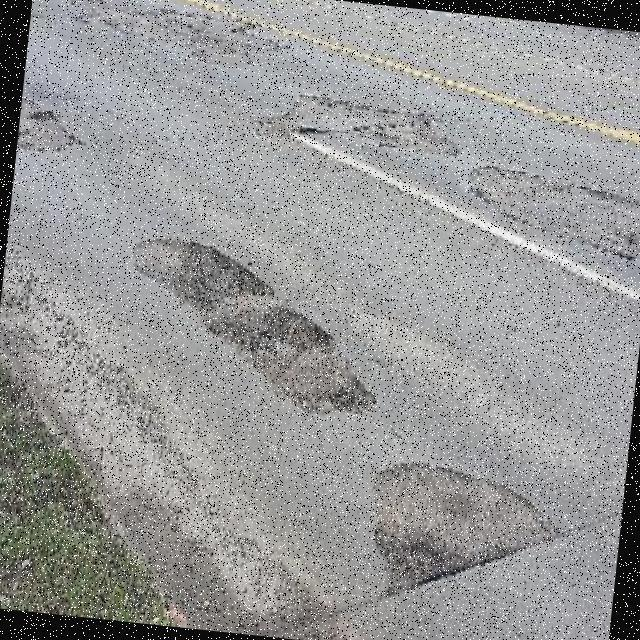Pothole: (135, 236, 376, 419), (371, 467, 564, 595), (464, 162, 640, 265), (75, 7, 284, 71), (261, 92, 458, 157), (17, 97, 86, 155)
